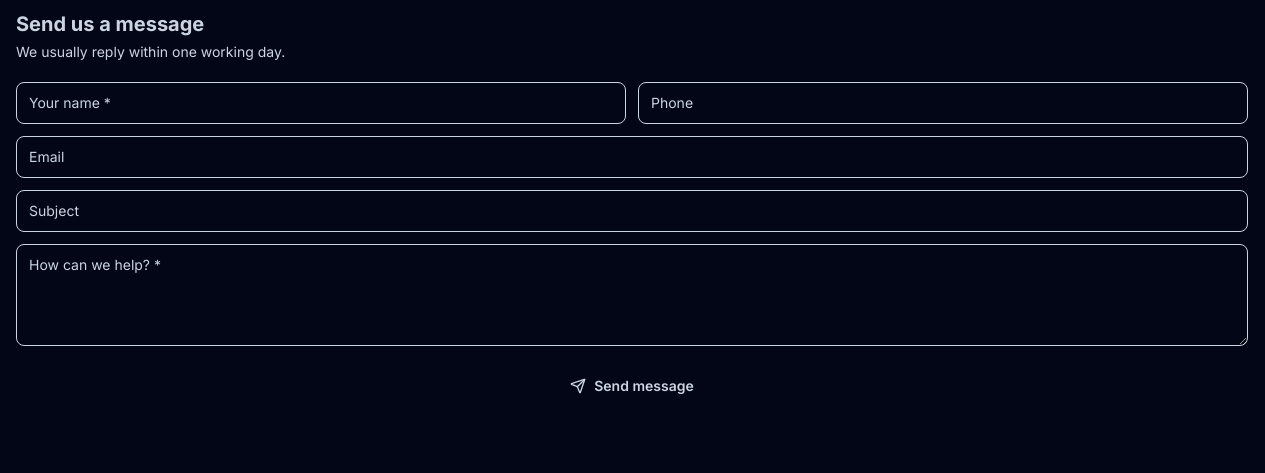
Scenario: contact form › email ya phone zaroori; server error dikhe
Type "Riya" into the field labelled "Your name" at (321, 103), box [16, 82, 626, 124]
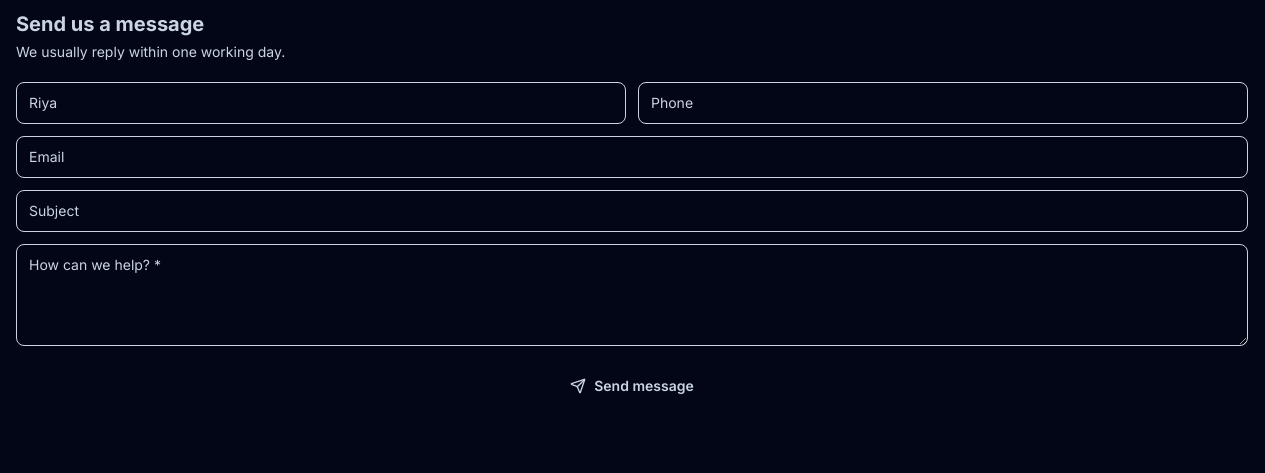
Type "Hello there" into the text box named "Message" at (632, 295), box [16, 244, 1248, 346]
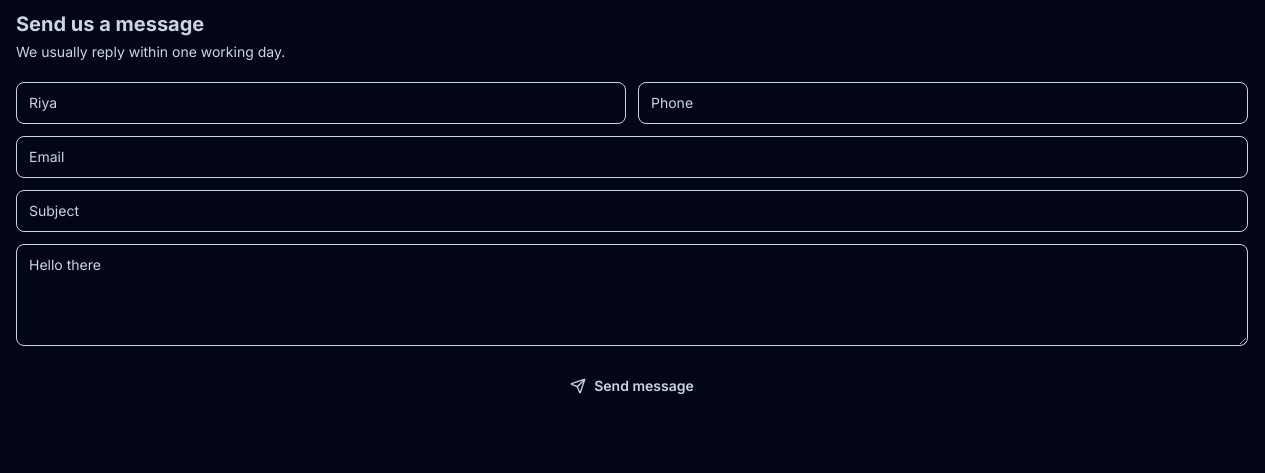
Submit the form named "Contact form"
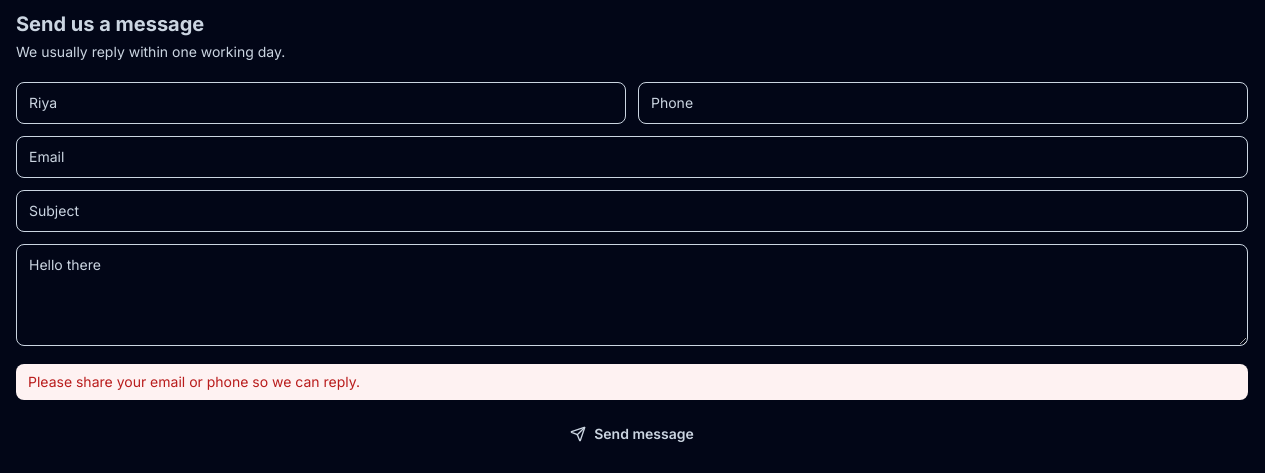
Result: the message shows "email or phone" at [28, 373, 360, 390]
Type "r@x.com" into the field labelled "Email" at (632, 157), box [16, 136, 1248, 178]
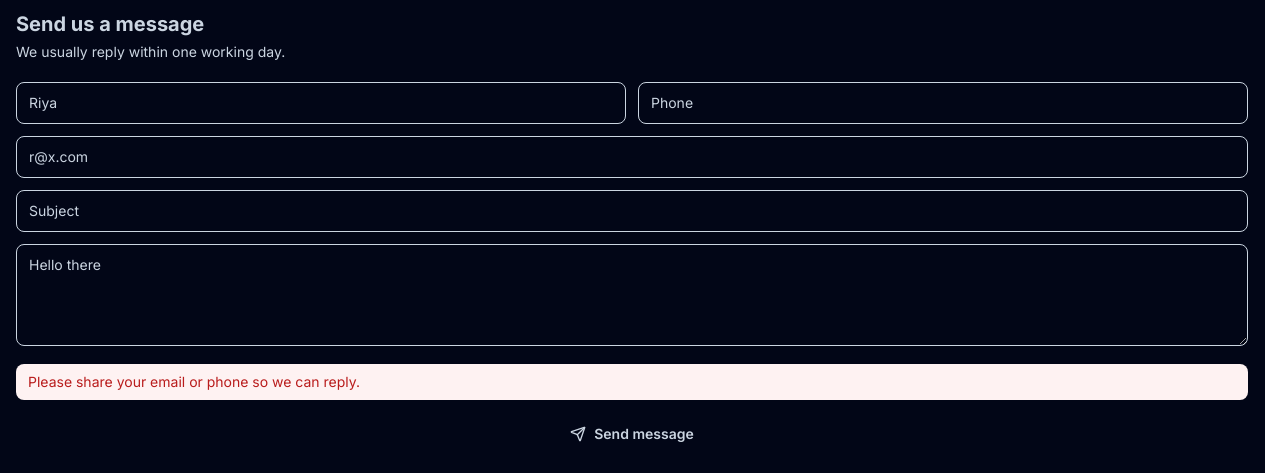
Submit the form named "Contact form"
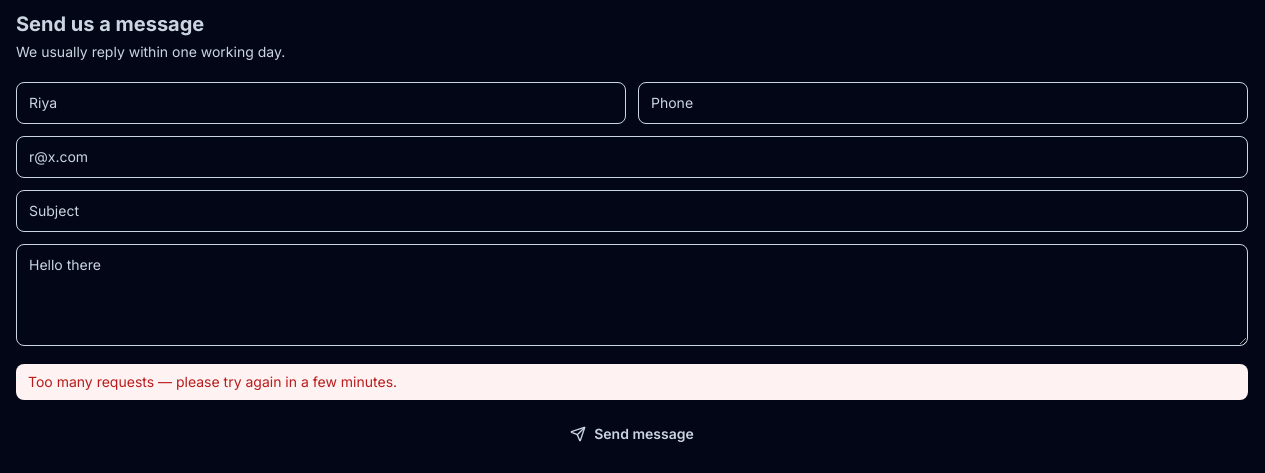
Result: the message shows "Too many requests" at [28, 373, 397, 390]
